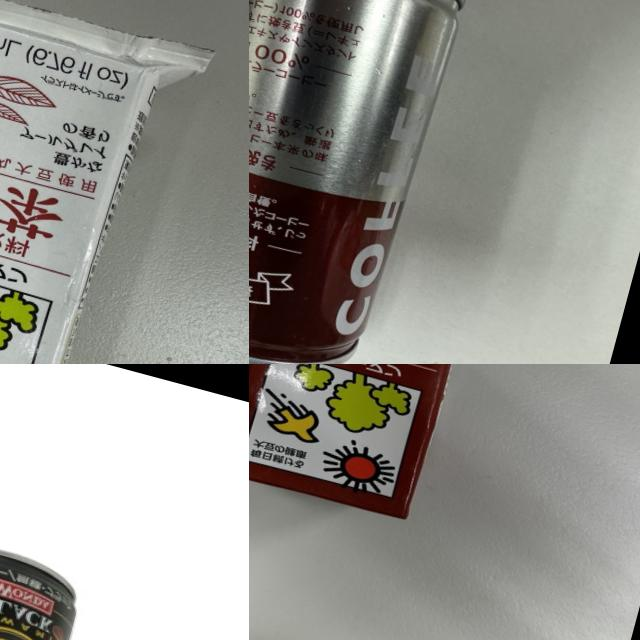Aluminium Foil: (0, 0, 177, 364), (249, 364, 501, 531)
Can: (249, 0, 467, 364)
